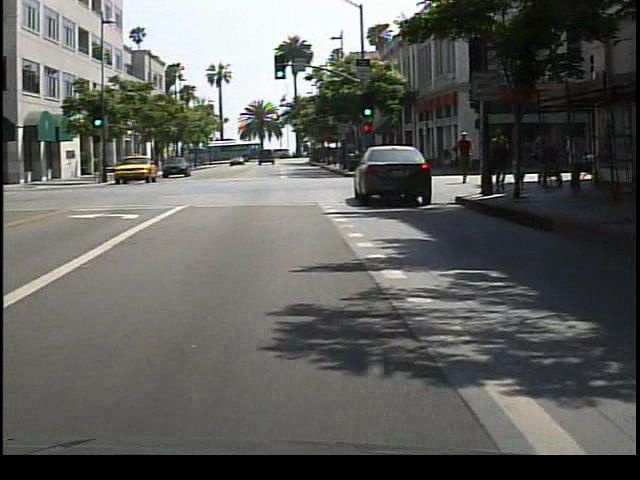person: (456, 130, 479, 190)
